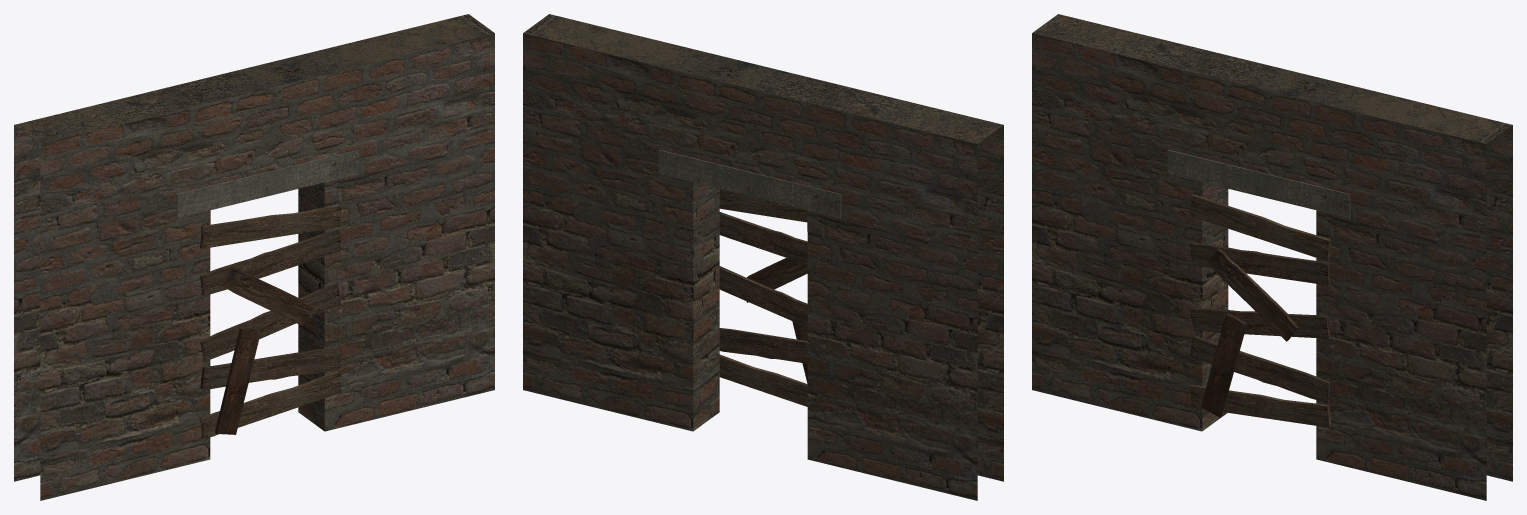
Rendered from doorway_hr_3_regular.obj.
The picture shows the model from 3 angles, left to right: view 1: azimuth 30°, elevation 25°; view 2: azimuth 150°, elevation 25°; view 3: azimuth 330°, elevation 25°; orthographic projection.
Visible parts, largest first — view 1: doorway_hr_3_regular; view 2: doorway_hr_3_regular; view 3: doorway_hr_3_regular.
Boxes of the visible parts, box(x1,y1,x2,y2) form: doorway_hr_3_regular: box(14, 14, 494, 500); doorway_hr_3_regular: box(523, 14, 1003, 500); doorway_hr_3_regular: box(1032, 14, 1512, 500).
Size of the model in its own units: 4 by 3 by 0.47.
